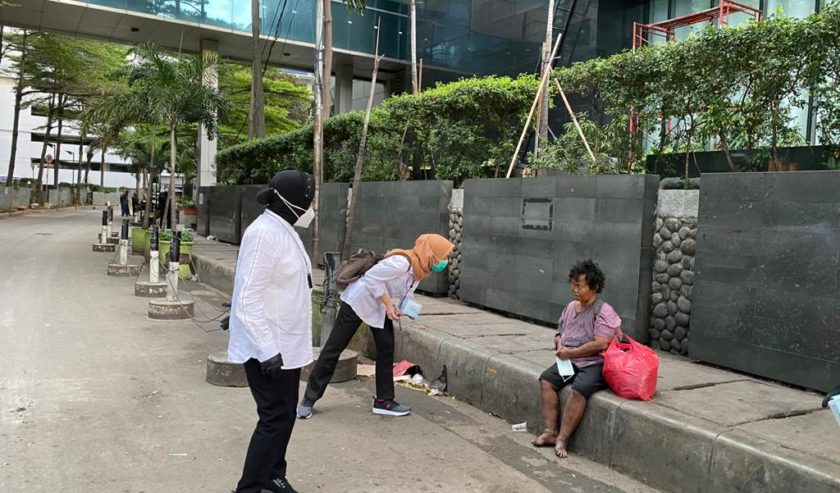gelandangan: (527, 254, 662, 460)
